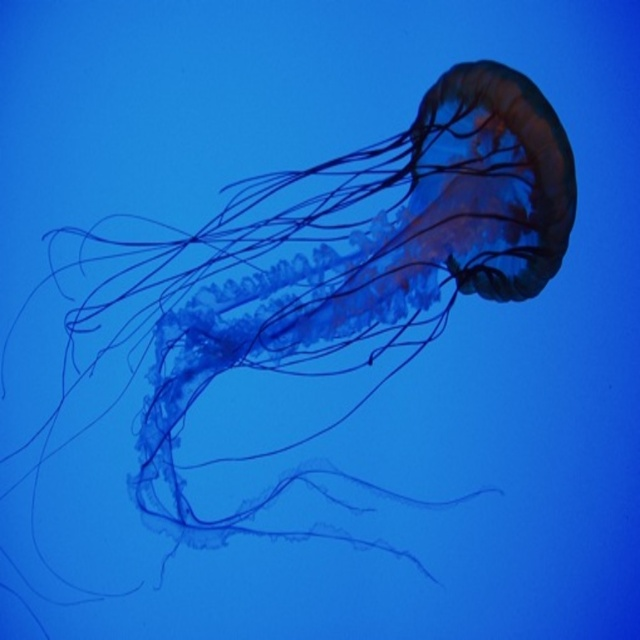Jellyfish: (0, 57, 579, 638)
